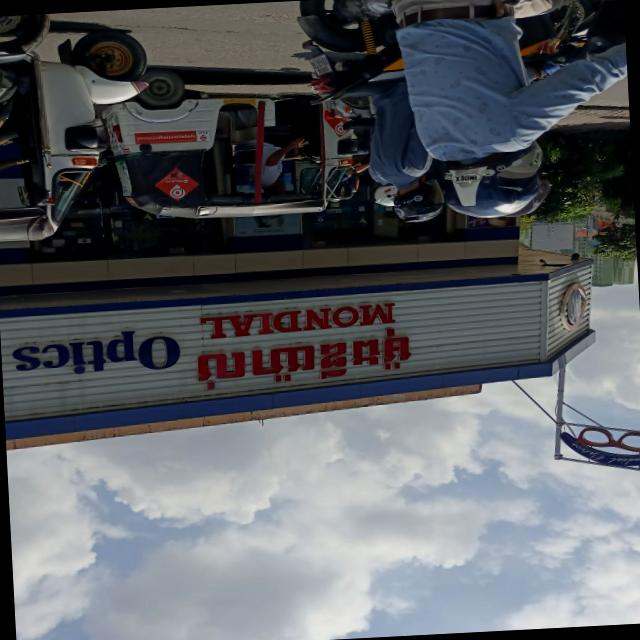Yolov11kh: (189, 325, 425, 397)
